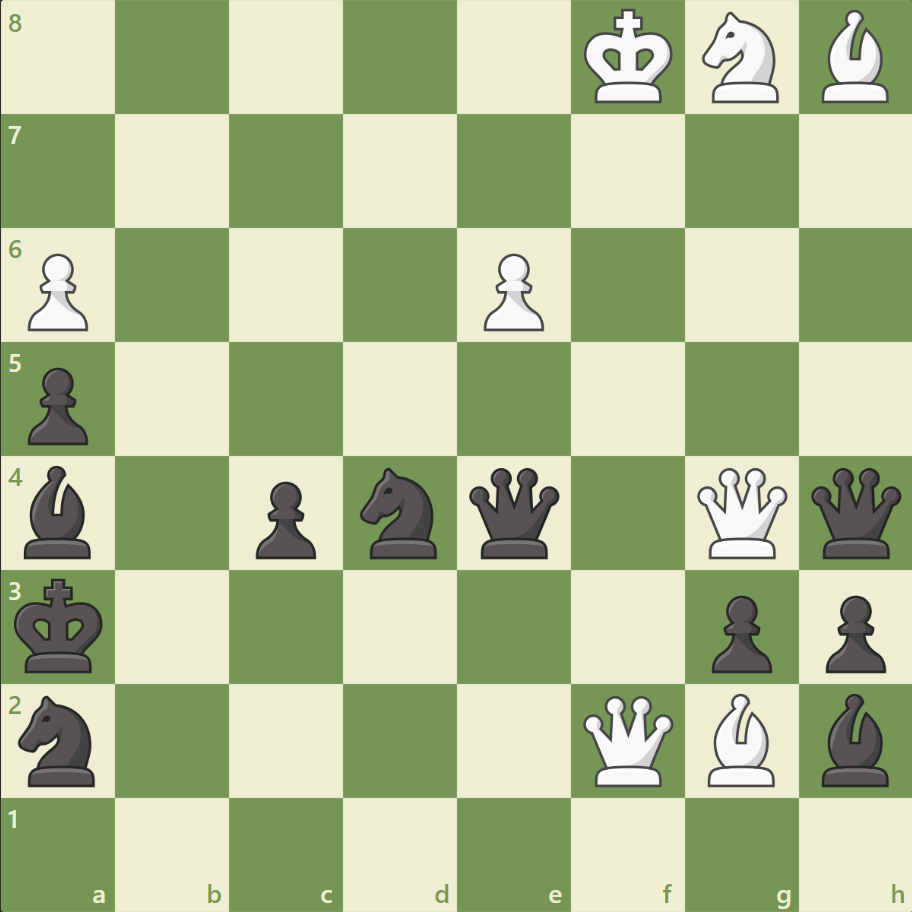B: (812, 6, 896, 109), (698, 687, 782, 790)
K: (579, 4, 679, 112)
N: (692, 7, 789, 110)
P: (20, 246, 95, 337), (474, 246, 549, 337)
Q: (691, 463, 790, 562), (578, 690, 677, 789)
b: (17, 460, 101, 563), (812, 687, 896, 790)
k: (11, 571, 111, 679)
n: (351, 461, 449, 564), (11, 688, 108, 791)
p: (20, 359, 95, 450), (247, 473, 322, 564), (701, 586, 776, 677), (815, 586, 889, 677)
q: (464, 463, 563, 562), (805, 463, 904, 562)
